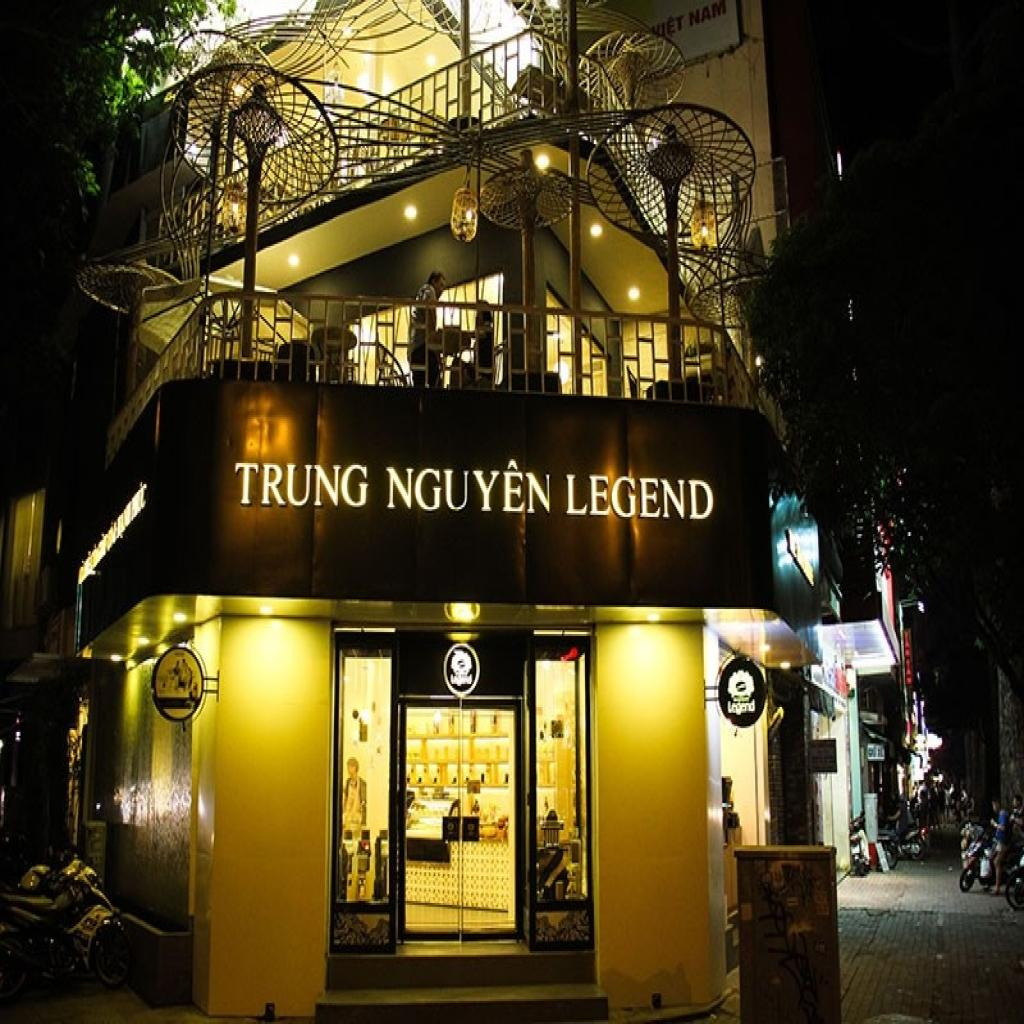text: (385, 457, 552, 517), (564, 472, 716, 522), (234, 463, 370, 509), (727, 700, 757, 718)
